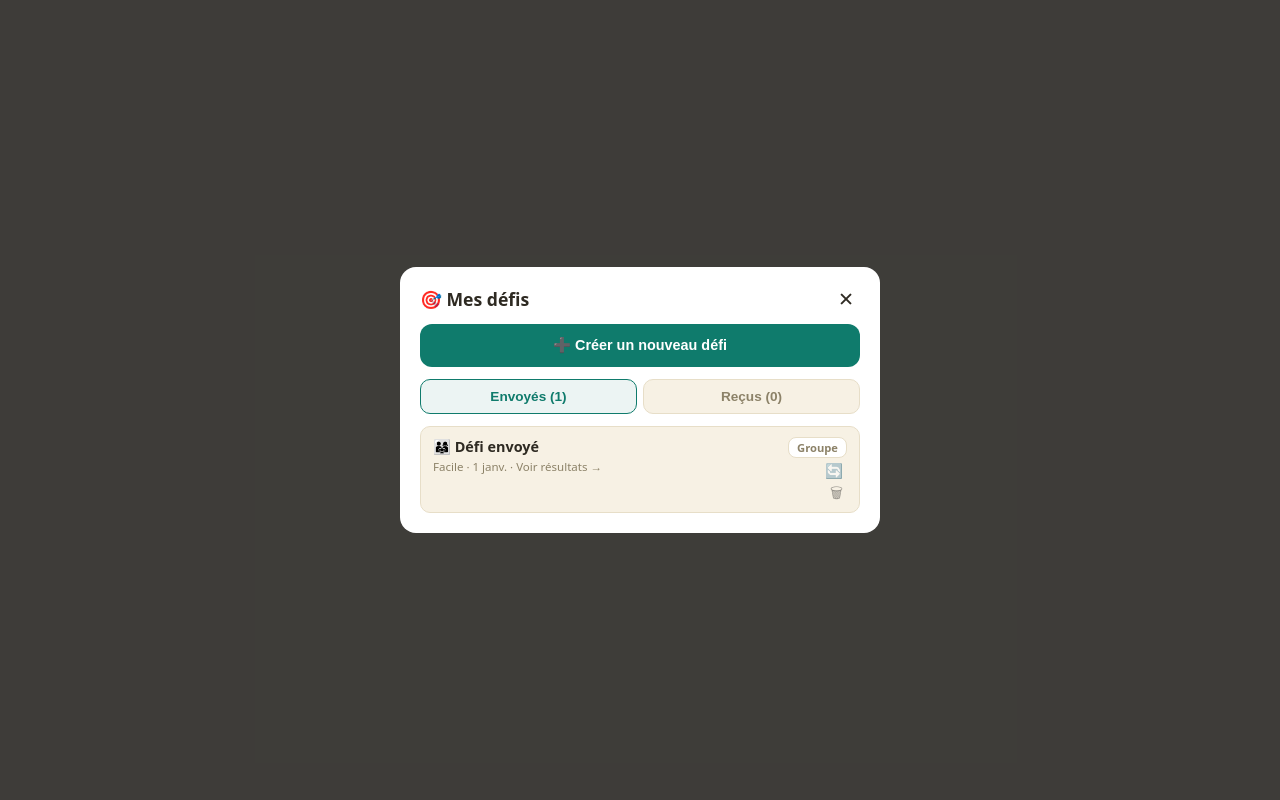
Test: DefiDashboard — défi de groupe sans score initial du challenger › reste cliquable et affiche "personne n'a encore joué" quand rematch_results est vide
Click the element with class "defi-row" at [640, 470], box [420, 426, 860, 513]
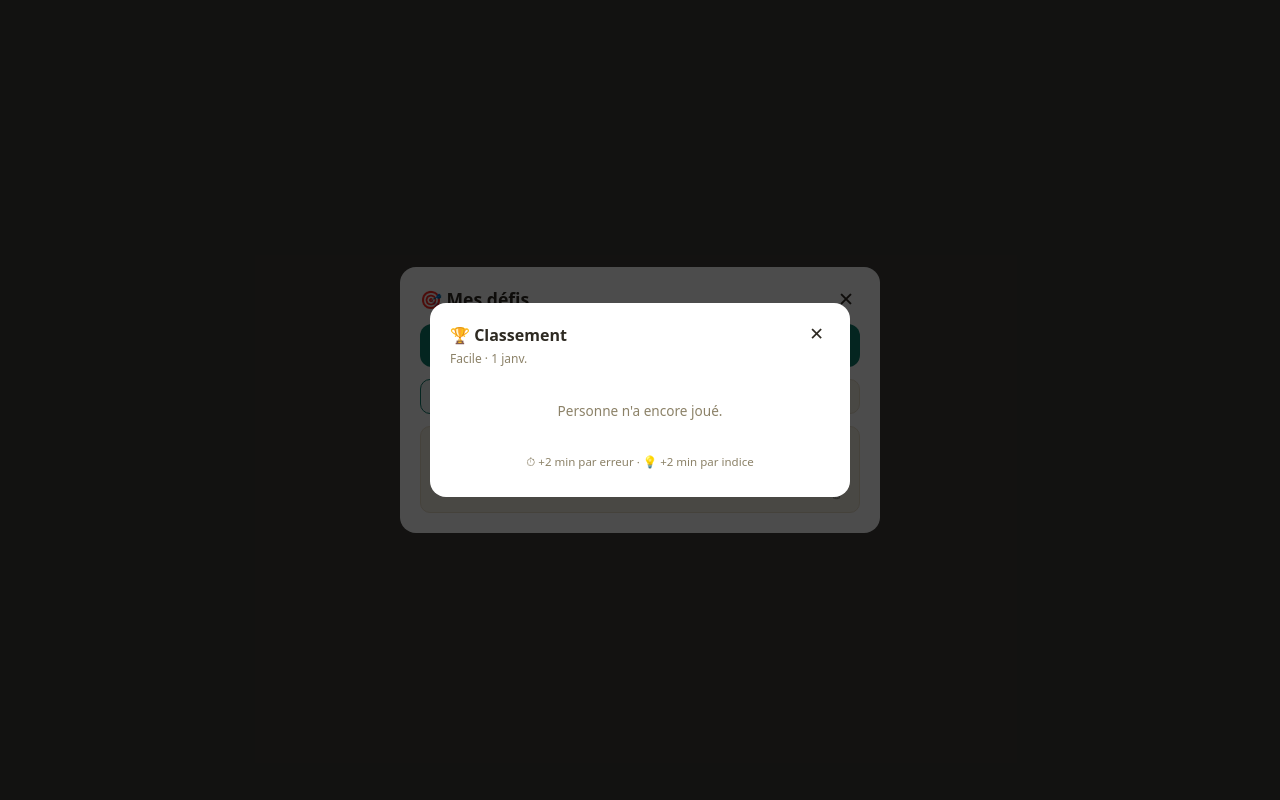
Expected: the text "Personne n'a encore joué." is shown, [558, 401, 722, 420]
